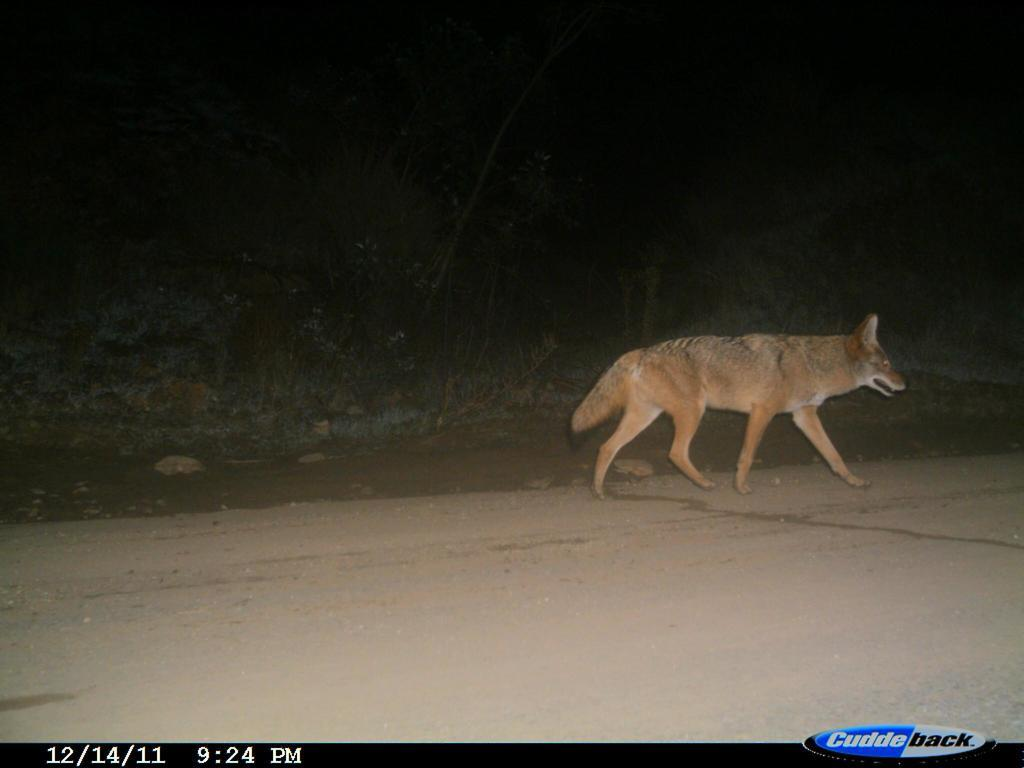coyote: (568, 310, 911, 509)
